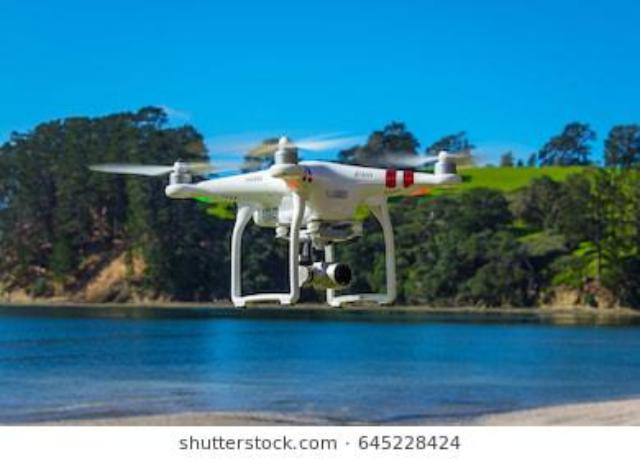drone: (0, 89, 640, 459)
